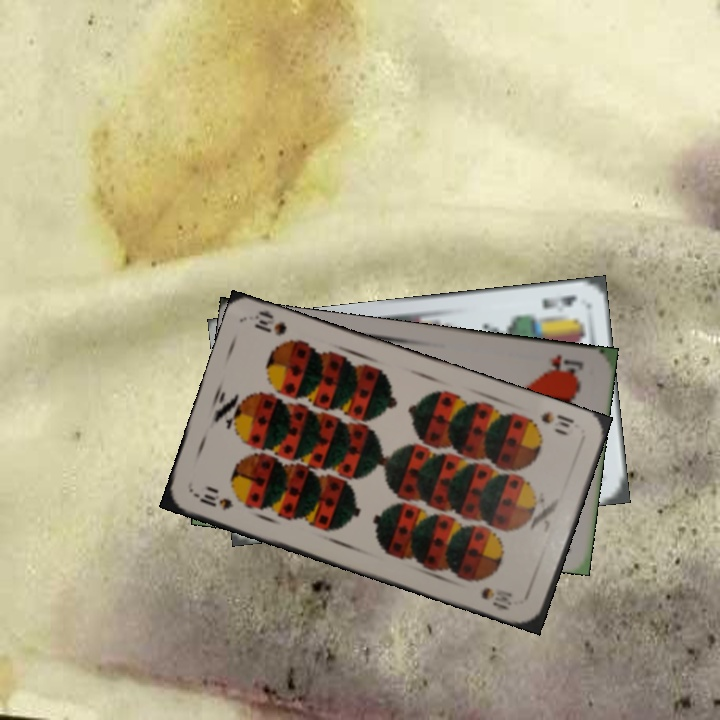EK: (538, 290, 578, 312)
HO: (539, 351, 585, 378)
S10: (190, 484, 236, 514), (536, 407, 577, 439)
